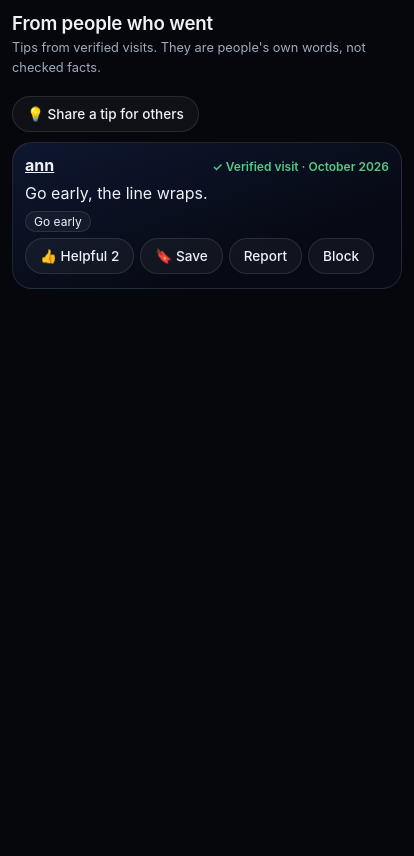
Test case: TipsSection › offers "Share a tip" only with a verified check-in and no tip of yours yet
The width and height of the screenshot is (414, 856).
Expected: the text "Share a tip for others" is not shown
Click the button "💡 Share a tip for others". click: click(105, 114)
box: [12,96,199,132]
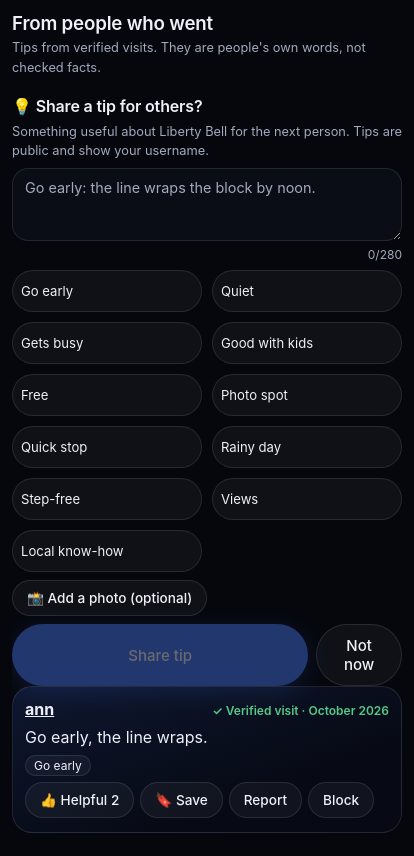
Expected: the text "Tips are public and show your username" is shown, [12,124,402,158]
